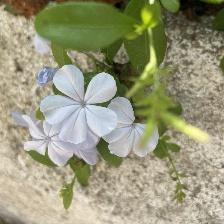chitrak: (42, 65, 122, 144), (105, 97, 163, 158), (25, 119, 76, 170)
